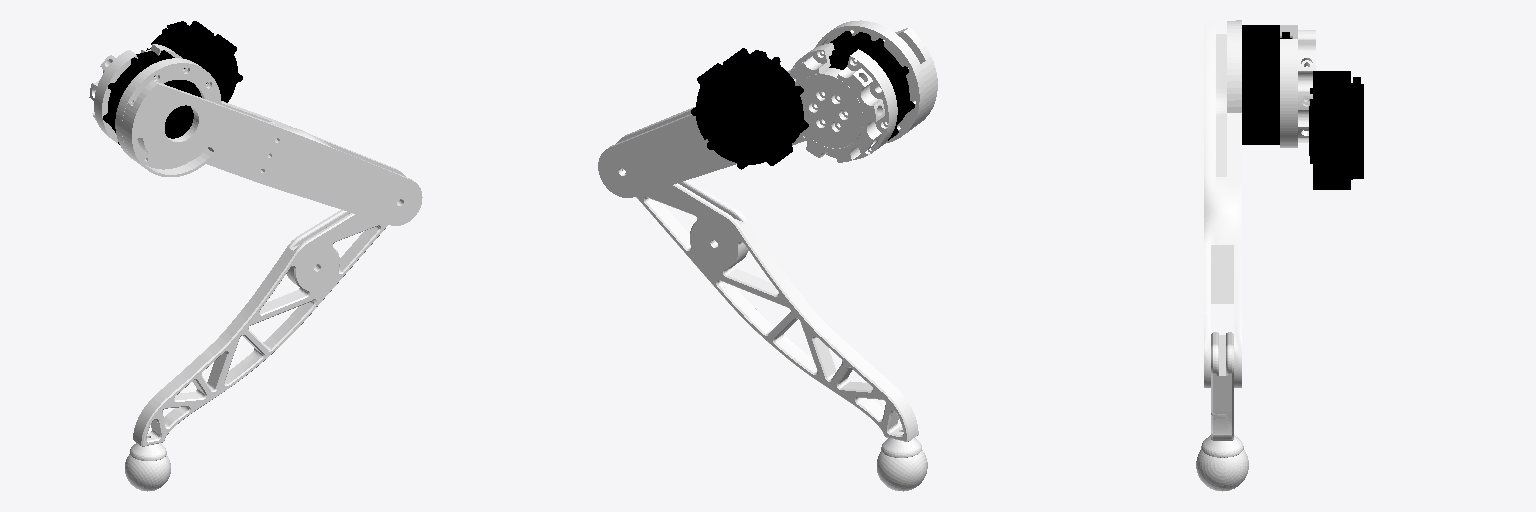
URDF robot description (quadruped_robot):
<?xml version="1.0" ?>
<robot name="quadruped_robot">
  <material name="white">
    <color rgba="1.0 1.0 1.0 1.000"/>
  </material>

  <material name="black">
    <color rgba="0.0 0.0 0.0 1.000"/>
  </material>

  <link name="world">
  </link>

  <joint name="base_joint" type="fixed">
    <origin rpy="0 0 0" xyz="0 0 0.5"/>
    <parent link="world"/>
    <child link="base_link"/>
  </joint>

  <link name="base_link">
    <inertial>
      <origin xyz="-1.403432864127373e-05 0.04089216246839065 0.00038276930859894374" rpy="0 0 0"/>
      <mass value="0.8505876351103128"/>
      <inertia ixx="0.000349" iyy="0.000569" izz="0.000337" ixy="-0.0" iyz="-1e-06" ixz="0.0"/>
    </inertial>
    <visual>
      <origin xyz="0 0 0" rpy="0 0 0"/>
      <geometry>
        <mesh filename="package://quadruped_robot_description/meshes/base_link.stl" scale="0.001 0.001 0.001"/>
      </geometry>
      <material name="black"/>
    </visual>
    <collision>
      <origin xyz="0 0 0" rpy="0 0 0"/>
      <geometry>
        <mesh filename="package://quadruped_robot_description/meshes/base_link.stl" scale="0.001 0.001 0.001"/>
      </geometry>
    </collision>
  </link>

  <link name="leg_3">
    <inertial>
      <origin xyz="-2.5004270480943896e-05 -0.008625177783152922 -0.0013116403224834225" rpy="0 0 0"/>
      <mass value="0.657885902828282"/>
      <inertia ixx="0.407634" iyy="0.769441" izz="0.410714" ixy="1.4e-05" iyz="-3e-06" ixz="0.0"/>
    </inertial>
    <visual>
      <origin xyz="0.0 -0.025 -0.0" rpy="0 0 0"/>
      <geometry>
        <mesh filename="package://quadruped_robot_description/meshes/leg_3.stl" scale="0.001 0.001 0.001"/>
      </geometry>
      <material name="white"/>
    </visual>
    <collision>
      <origin xyz="0.0 -0.025 -0.0" rpy="0 0 0"/>
      <geometry>
        <mesh filename="package://quadruped_robot_description/meshes/leg_3.stl" scale="0.001 0.001 0.001"/>
      </geometry>
    </collision>
  </link>

  <link name="gear_2">
    <inertial>
      <origin xyz="-1.4034328315678919e-05 -0.012107838485283868 0.00038276913820788224" rpy="0 0 0"/>
      <mass value="0.8505876351103128"/>
      <inertia ixx="0.000349" iyy="0.000569" izz="0.000337" ixy="-0.0" iyz="-1e-06" ixz="0.0"/>
    </inertial>
    <visual>
      <origin xyz="-0.0 -0.001 0.0" rpy="0 0 0"/>
      <geometry>
        <mesh filename="package://quadruped_robot_description/meshes/gear_2.stl" scale="0.001 0.001 0.001"/>
      </geometry>
      <material name="black"/>
    </visual>
    <collision>
      <origin xyz="-0.0 -0.001 0.0" rpy="0 0 0"/>
      <geometry>
        <mesh filename="package://quadruped_robot_description/meshes/gear_2.stl" scale="0.001 0.001 0.001"/>
      </geometry>
    </collision>
  </link>

  <link name="leg_2">
    <inertial>
      <origin xyz="0.10575373481330458 -0.006986344256198283 -0.03803796859205587" rpy="0 0 0"/>
      <mass value="2.0086761793539414"/>
      <inertia ixx="1.422506" iyy="6.564512" izz="5.194908" ixy="-0.081587" iyz="-0.001885" ixz="-0.018399"/>
    </inertial>
    <visual>
      <origin xyz="-0.0 0.024 0.0" rpy="0 0 0"/>
      <geometry>
        <mesh filename="package://quadruped_robot_description/meshes/leg_2.stl" scale="0.001 0.001 0.001"/>
      </geometry>
      <material name="white"/>
    </visual>
    <collision>
      <origin xyz="-0.0 0.024 0.0" rpy="0 0 0"/>
      <geometry>
        <mesh filename="package://quadruped_robot_description/meshes/leg_2.stl" scale="0.001 0.001 0.001"/>
      </geometry>
    </collision>
  </link>

  <link name="leg_1">
    <inertial>
      <origin xyz="-0.05550813708591157 0.0073015454849653105 -0.05052022573575653" rpy="0 0 0"/>
      <mass value="0.8145141492777319"/>
      <inertia ixx="0.00304" iyy="0.007185" izz="0.004192" ixy="0.0" iyz="0.0" ixz="-0.003392"/>
    </inertial>
    <visual>
      <origin xyz="-0.190612 0.044 0.11005" rpy="0 0 0"/>
      <geometry>
        <mesh filename="package://quadruped_robot_description/meshes/leg_1.stl" scale="0.001 0.001 0.001"/>
      </geometry>
      <material name="white"/>
    </visual>
    <collision>
      <origin xyz="-0.190612 0.044 0.11005" rpy="0 0 0"/>
      <geometry>
        <mesh filename="package://quadruped_robot_description/meshes/leg_1.stl" scale="0.001 0.001 0.001"/>
      </geometry>
    </collision>
  </link>

  <joint name="revolute1" type="revolute">
    <origin xyz="0.0 0.025 0.0" rpy="0 0 0"/>
    <parent link="base_link"/>
    <child link="leg_3"/>
    <axis xyz="0.0 -1.0 0.0"/>
    <limit effort="50" lower="-3.141592" upper="3.141592" velocity="20.0" />
    <dynamics damping="0.0" friction="10.0"/>
  </joint>

  <joint name="fixed1" type="fixed">
    <origin xyz="0.0 -0.024 -0.0" rpy="0 0 0"/>
    <parent link="leg_3"/>
    <child link="gear_2"/>
  </joint>

  <joint name="fixed2" type="fixed">
    <origin xyz="0.0 -0.025 0.0" rpy="0 0 0"/>
    <parent link="gear_2"/>
    <child link="leg_2"/>
  </joint>

  <joint name="revolute2" type="revolute">
    <origin xyz="0.190612 -0.02 -0.11005" rpy="0 0 0"/>
    <parent link="leg_2"/>
    <child link="leg_1"/>
    <axis xyz="0.0 -1.0 -0.0"/>
    <limit effort="50" lower="-3.141592" upper="3.141592" velocity="20.0" />
    <dynamics damping="0.0" friction="10.0"/>
  </joint>

  <gazebo reference="base_link">
    <material>Gazebo/Black</material>
    <selfCollide>true</selfCollide>
  </gazebo>
  <gazebo reference="leg_3">
    <material>Gazebo/White</material>
    <selfCollide>true</selfCollide>
  </gazebo>
  <gazebo reference="gear_2">
    <material>Gazebo/Black</material>
    <selfCollide>true</selfCollide>
  </gazebo>
  <gazebo reference="leg_2">
    <material>Gazebo/White</material>
    <selfCollide>true</selfCollide>
  </gazebo>
  <gazebo reference="leg_1">
    <material>Gazebo/White</material>
    <selfCollide>true</selfCollide>
  </gazebo>
</robot>

--- Render facts (derived) ---
3 views of the same robot in one strip: view 1: azimuth 30°, elevation 25°; view 2: azimuth 150°, elevation 25°; view 3: azimuth 270°, elevation 25° (orthographic).
Model quadruped_robot with 6 links and 5 joints (2 revolute, 3 fixed), rooted at world, posed every joint at zero.
Visible links, largest first — view 1: leg_2, leg_1, base_link, gear_2, leg_3; view 2: leg_1, leg_2, base_link, leg_3, gear_2; view 3: leg_2, base_link, leg_1, gear_2, leg_3.
Boxes of the visible links, x1,y1,x2,y2 form: leg_2: (115, 58, 422, 225); leg_1: (125, 199, 400, 491); base_link: (146, 21, 242, 102); gear_2: (103, 50, 201, 144); leg_3: (89, 44, 182, 142); leg_1: (622, 168, 927, 491); leg_2: (598, 20, 937, 197); base_link: (691, 48, 808, 169); leg_3: (789, 43, 897, 162); gear_2: (829, 31, 914, 140); leg_2: (1204, 20, 1241, 387); base_link: (1309, 71, 1363, 189); leg_1: (1196, 332, 1248, 491); gear_2: (1242, 25, 1291, 144); leg_3: (1280, 25, 1315, 147).
Bounding box of the posed robot: 0.2532 × 0.1107 × 0.347 m (x, y, z).
Meshes: 5 distinct files referenced, 5 mesh visuals loaded (5 binary STL).